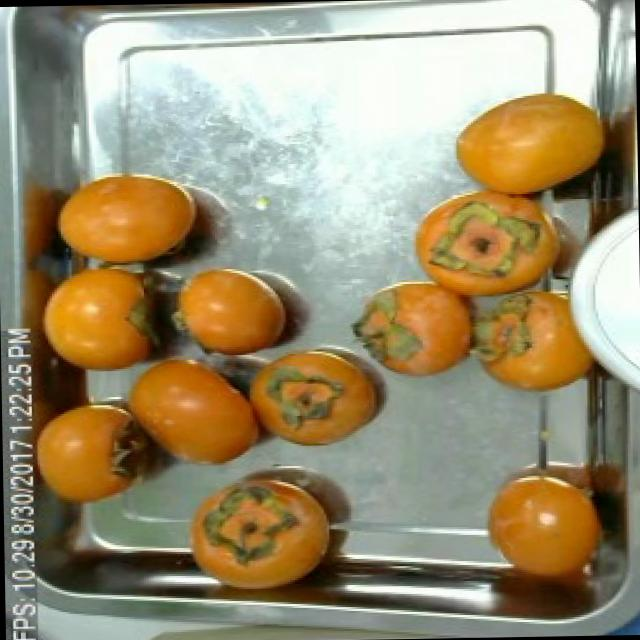Fruit: (464, 450, 638, 630), (169, 452, 349, 592), (440, 79, 618, 204), (110, 354, 276, 482), (29, 385, 172, 521), (246, 340, 404, 460), (456, 283, 607, 408), (39, 164, 217, 269), (26, 262, 177, 380), (352, 269, 489, 389), (160, 258, 308, 355)
